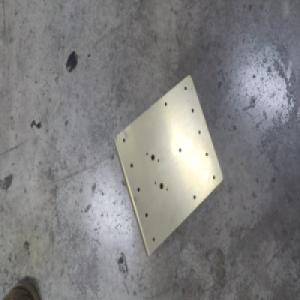MetalSheet: (111, 72, 224, 259)
